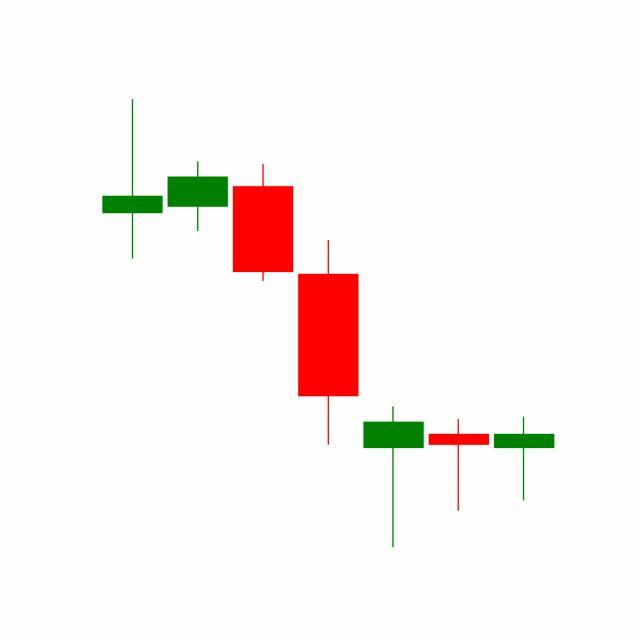Hikkake Pattern: (229, 160, 555, 549)
